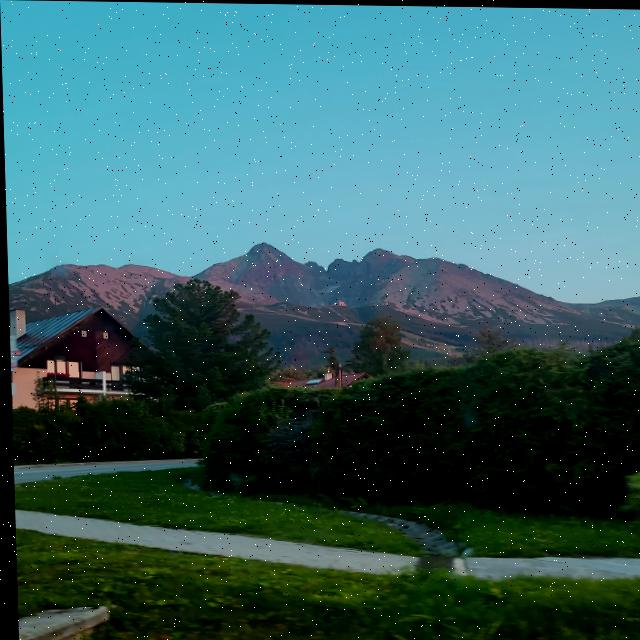Kezmarsky Stit: (304, 219, 461, 288)
Lomnicki Stit: (174, 186, 351, 308)
